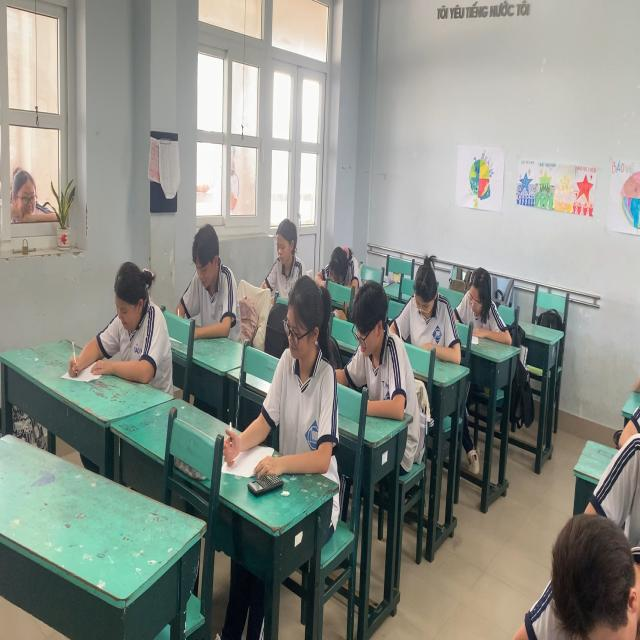not_cheating: (529, 505, 640, 640), (270, 271, 337, 480), (91, 247, 172, 393), (342, 274, 412, 418), (180, 210, 234, 344), (402, 242, 455, 360), (460, 249, 501, 338), (264, 211, 302, 287), (325, 237, 366, 297)
